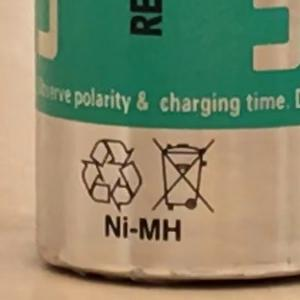keyword: (95, 209, 191, 248)
